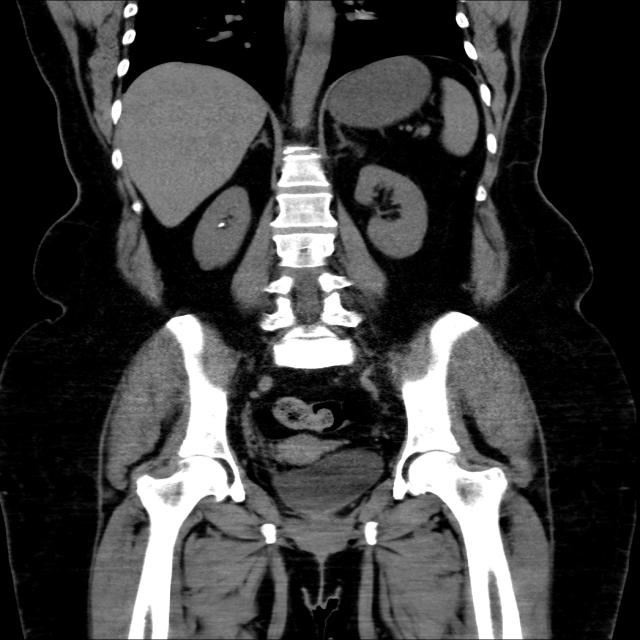kidneystone: (217, 220, 228, 229)
